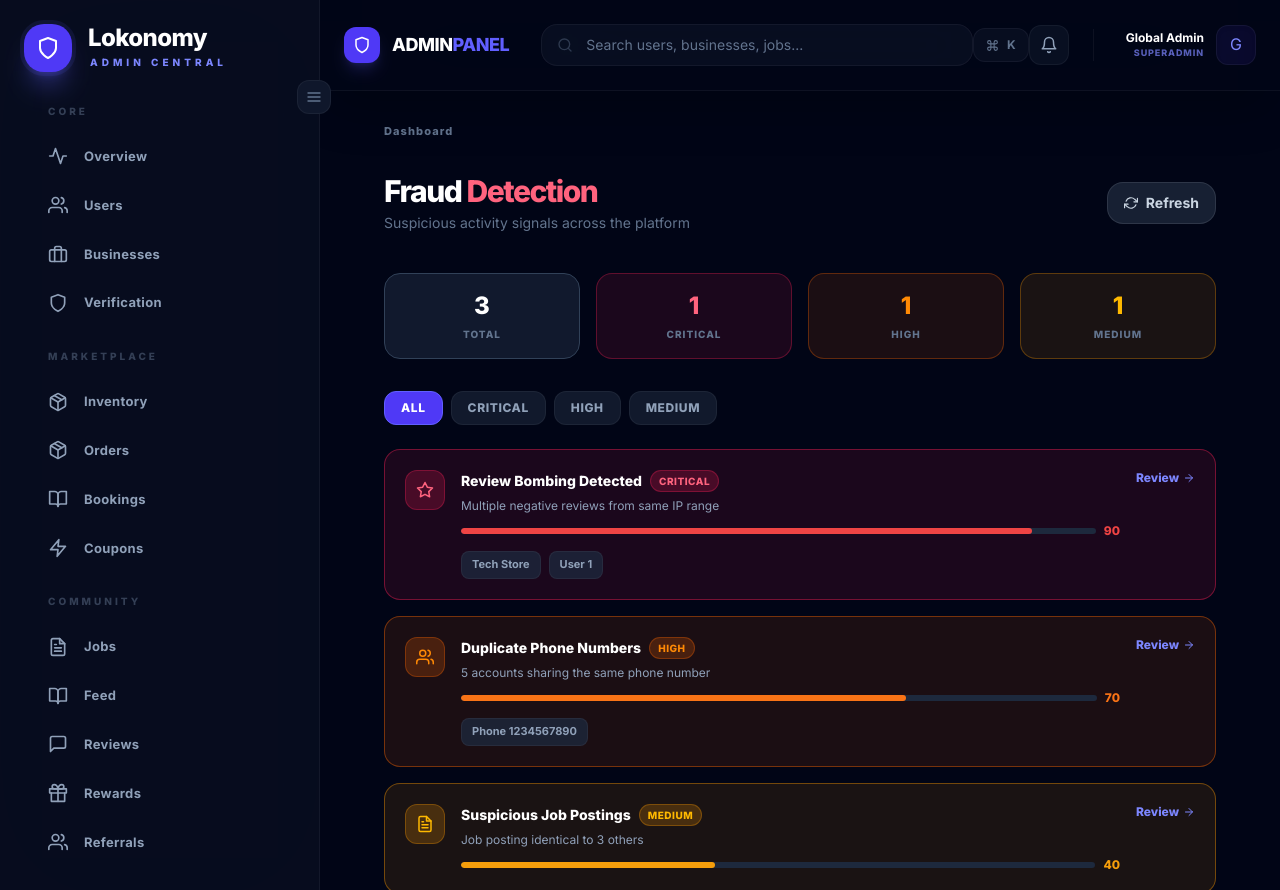
AdminFraudDetection Page › handles filtering by severity
expect the heading "Review Bombing Detected" is shown: met, box [461,471,642,491]
Note: Filter by critical
What coordinates should you click on to do the following:
click the button "critical"
I would click on:
 (498, 408)
Its box is [451,391,546,425].
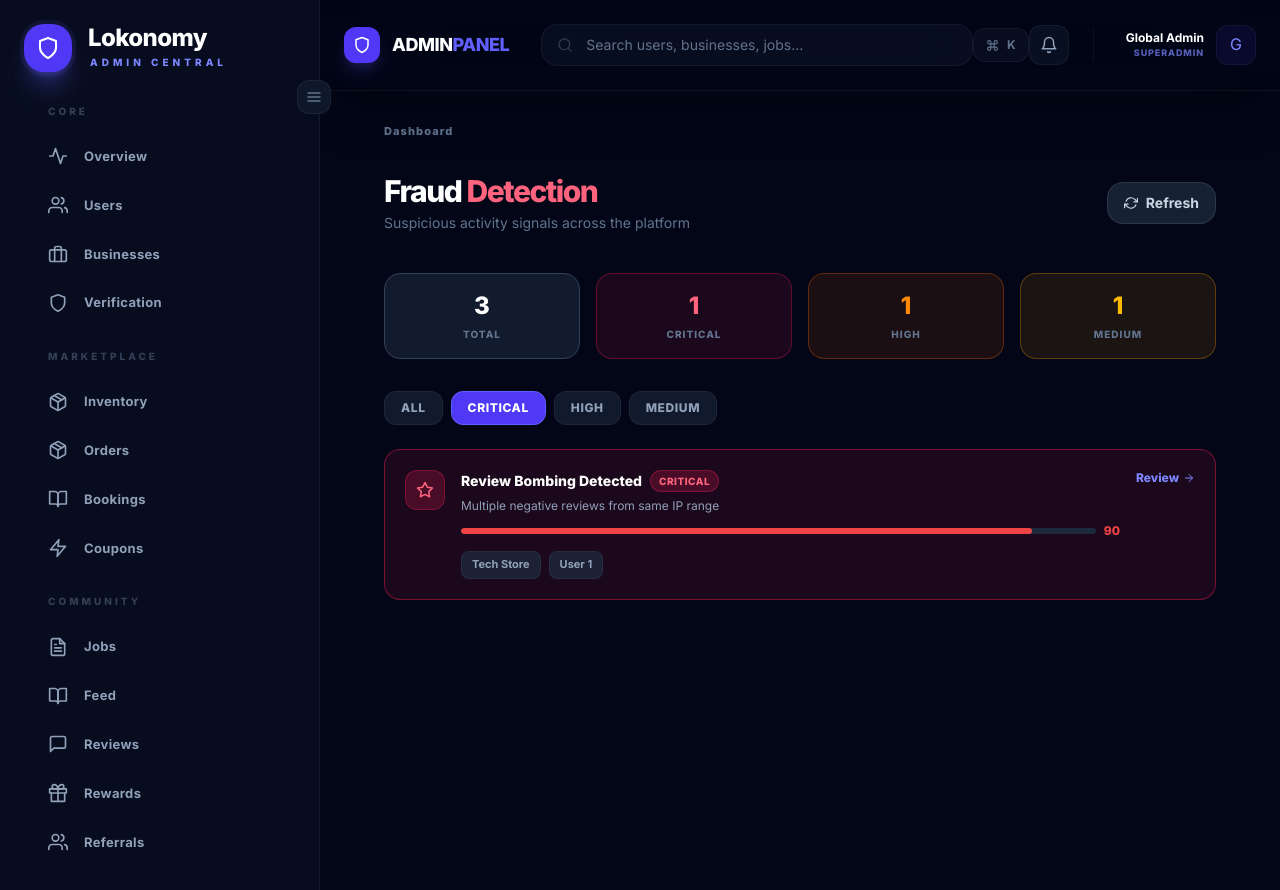
expect the heading "Review Bombing Detected" is shown: met, box [461,471,642,491]
expect the heading "Duplicate Phone Numbers" is gone: met
expect the heading "Suspicious Job Postings" is gone: met
Note: Filter by high
What coordinates should you click on to do the following:
click the button "high"
I would click on:
 (587, 408)
Its box is [554,391,621,425].
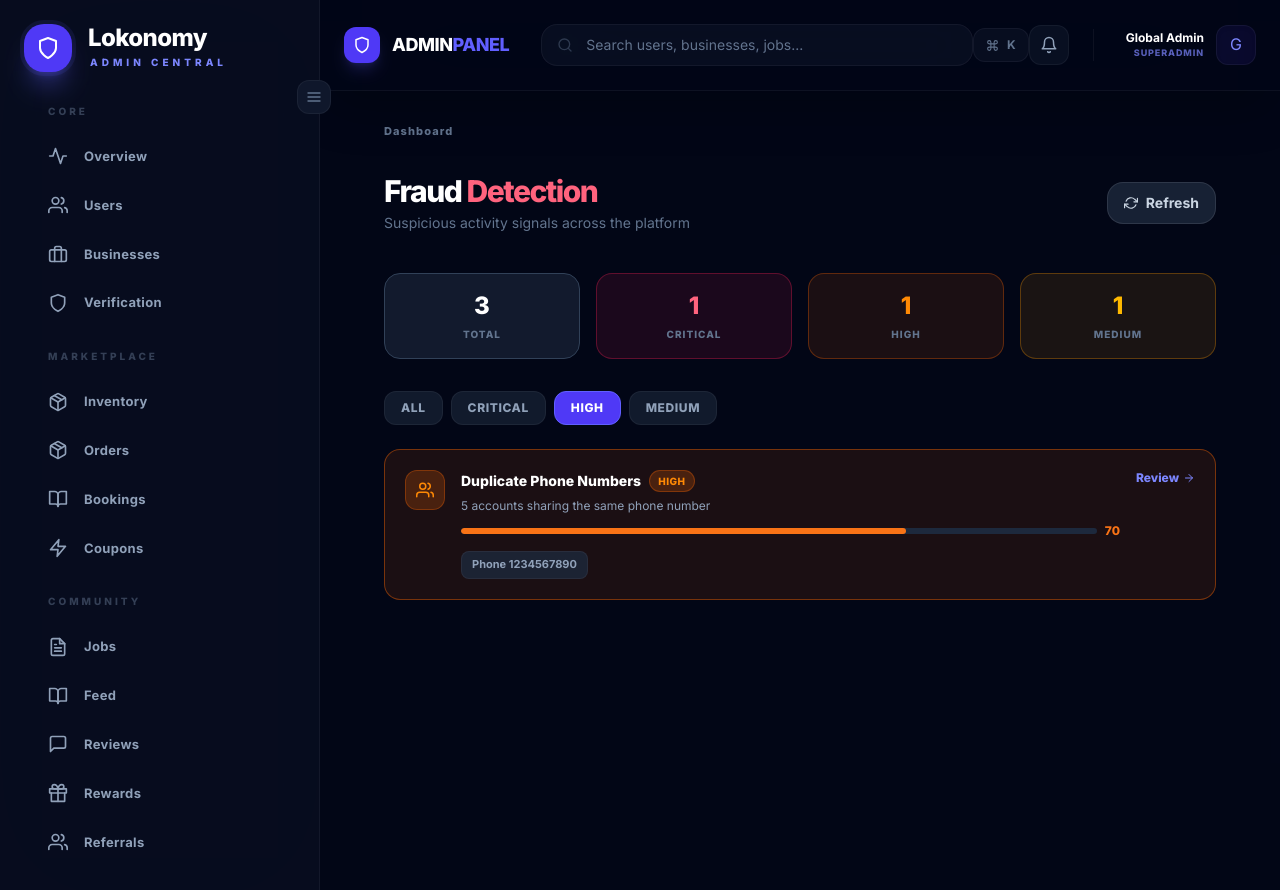
expect the heading "Review Bombing Detected" is gone: met
expect the heading "Duplicate Phone Numbers" is shown: met, box [461,471,641,491]
Note: Filter by medium
What coordinates should you click on to do the following:
click the button "medium"
I would click on:
 (673, 408)
Its box is [629,391,717,425].
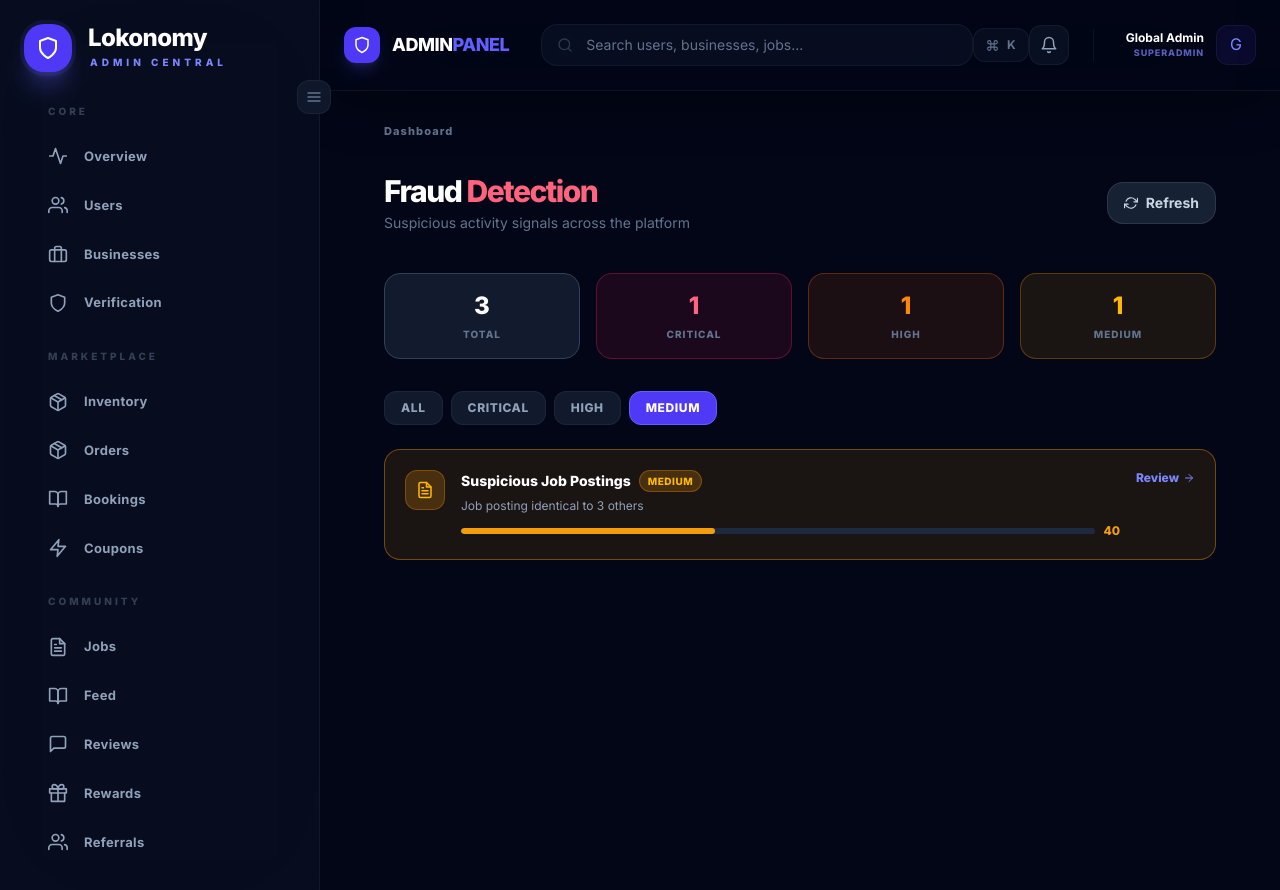
expect the heading "Suspicious Job Postings" is shown: met, box [461,471,631,491]
Note: Filter by all
What coordinates should you click on to do the following:
click the button "all"
I would click on:
 (413, 408)
Its box is [384,391,443,425].
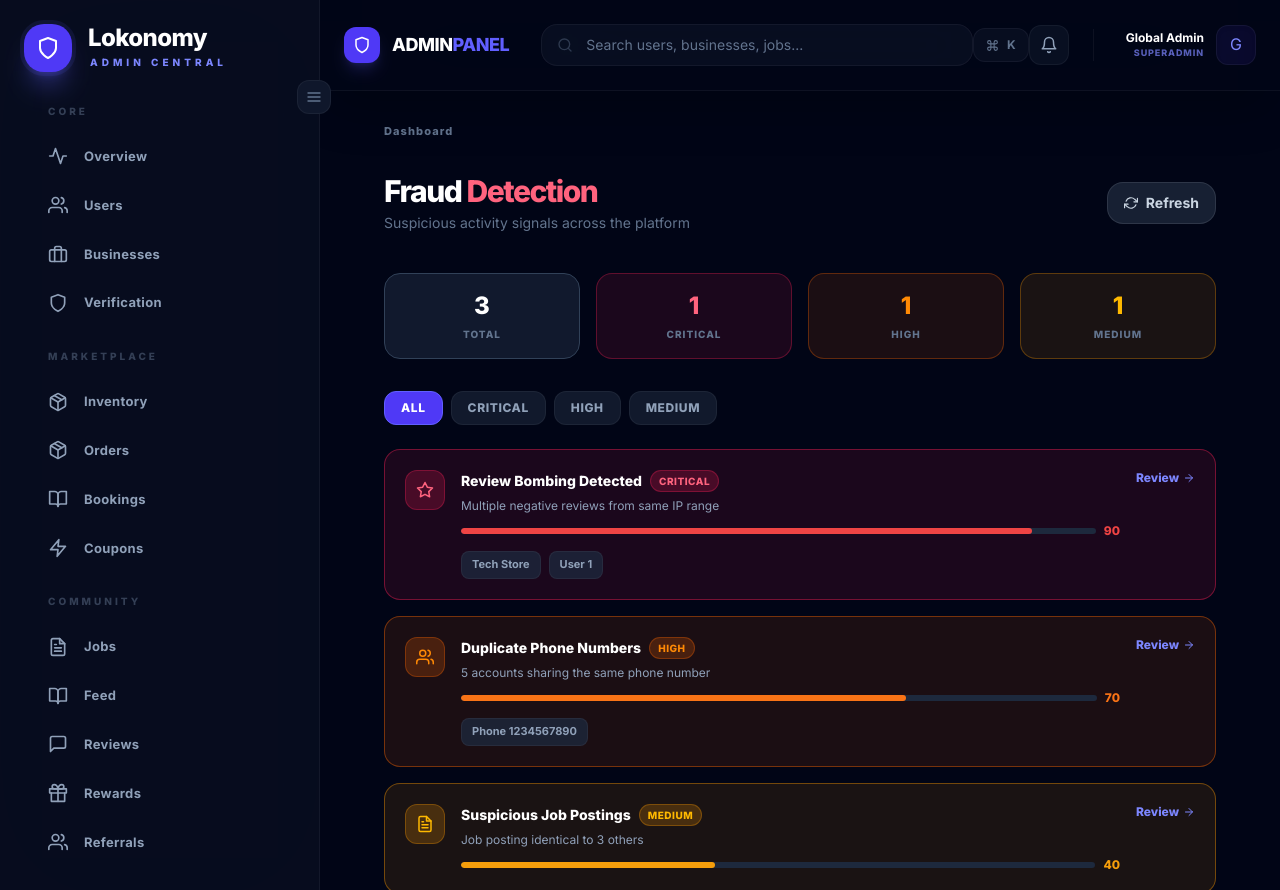
expect the heading "Review Bombing Detected" is shown: met, box [461,471,642,491]
expect the heading "Duplicate Phone Numbers" is shown: met, box [461,638,641,658]
